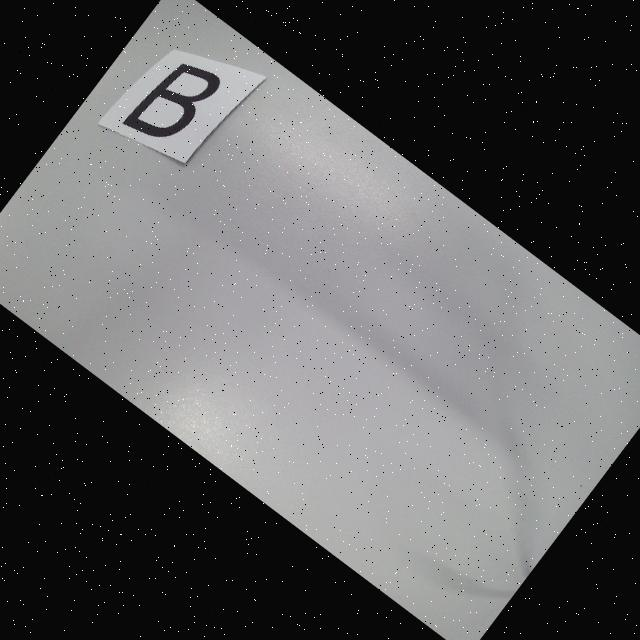FAKE: (122, 48, 224, 158)
